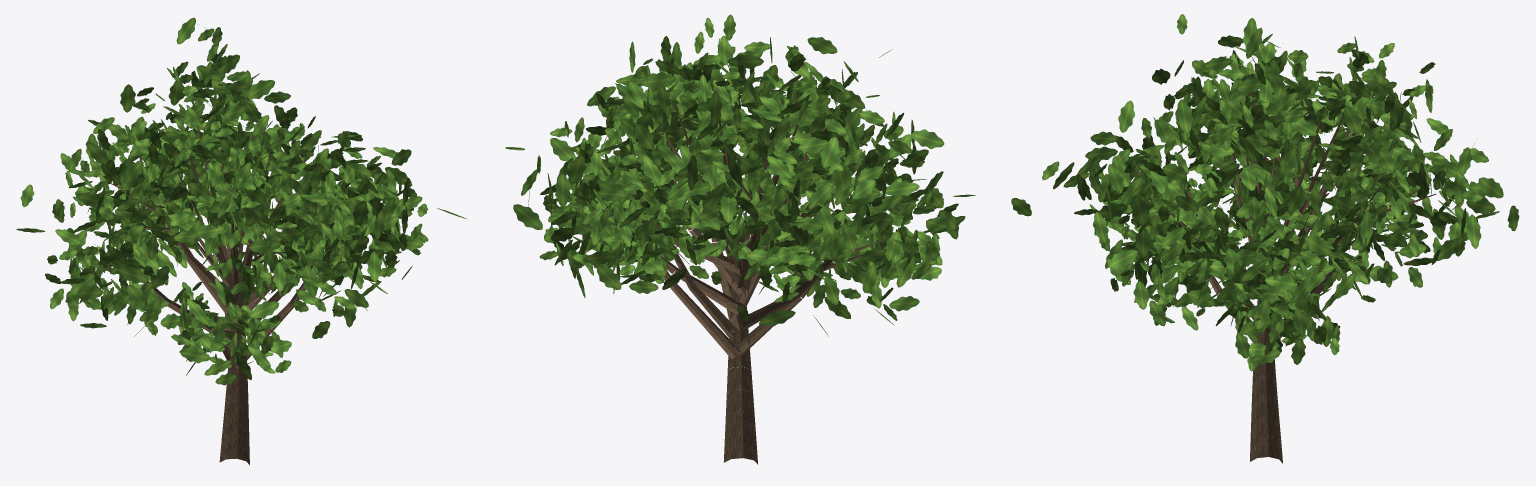
The model's file is birch-detail.glb.
3 renders of one model, left to right at view 1: azimuth 30°, elevation 25°; view 2: azimuth 150°, elevation 25°; view 3: azimuth 270°, elevation 25°, orthographic. The views are drawn at different scales.
Parts seen in each view (by area): view 1: foliage, bark; view 2: foliage, bark; view 3: foliage, bark.
Part boxes in pixels (left/top/right/bottom): foliage: left=16, top=17, right=467, bottom=385; bark: left=98, top=87, right=377, bottom=465; foliage: left=505, top=14, right=975, bottom=336; bark: left=603, top=100, right=891, bottom=464; foliage: left=1011, top=14, right=1519, bottom=371; bark: left=1137, top=74, right=1436, bottom=463.
Bounding box in the file's own units: 10.73 × 10.51 × 11.12.
Materials: 2 (2 with a texture image).
